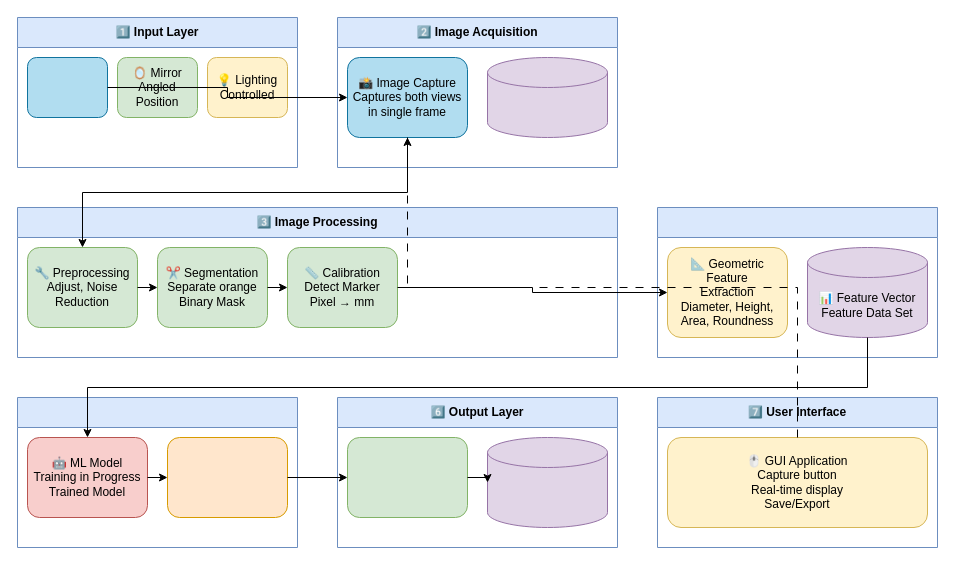
Some shapes in this 955 by 565 pixel diagram are drawn without their labels. Each missing label, with the box of its shape:
4️⃣ Feature Extraction: (656, 206, 938, 358)
5️⃣ AI/ML Module: (16, 396, 298, 548)
🎯 Volume Prediction Predict Volume: (166, 436, 288, 518)
💾 Storage Save images Save results Log data: (486, 436, 608, 528)
📷 Webcam Single Webcam: (26, 56, 108, 118)
🖥️ Display Results Volume, Images, Features: (346, 436, 468, 518)
🖼️ Raw Image RGB Image: (486, 56, 608, 138)
